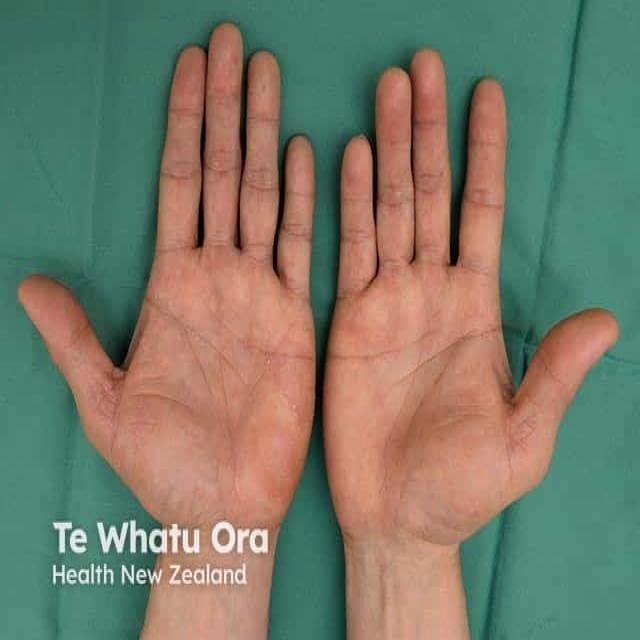Eczema: (254, 403, 310, 485)
